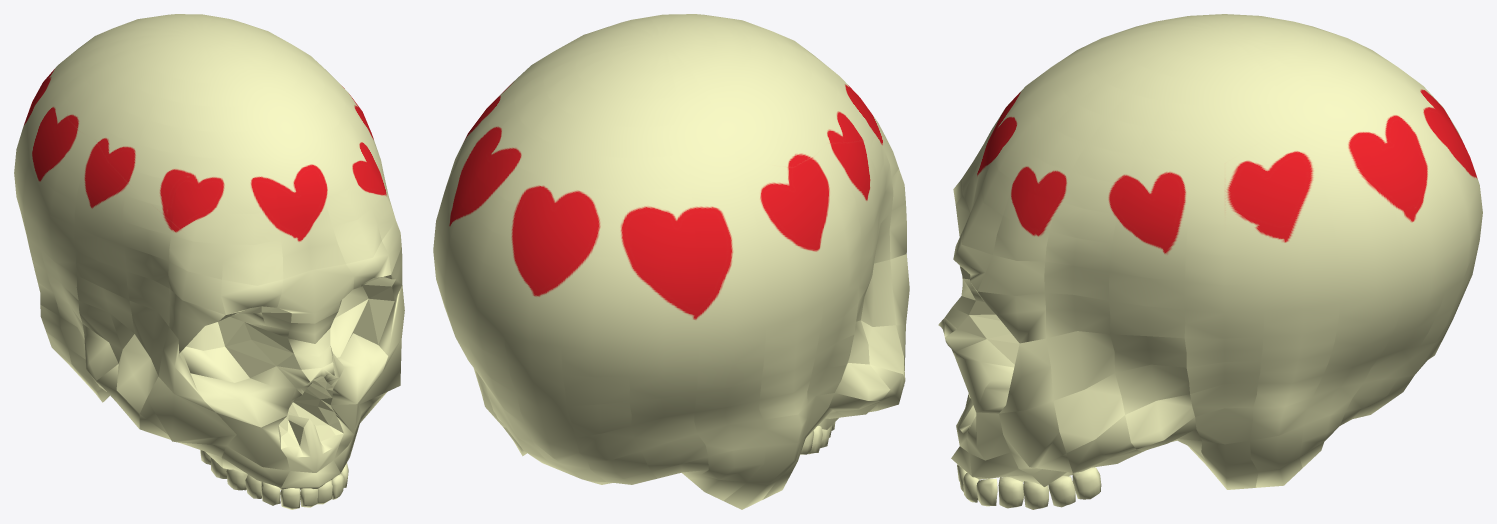
The model's file is skull.glb.
3 renders of one model, left to right at view 1: azimuth 30°, elevation 25°; view 2: azimuth 150°, elevation 25°; view 3: azimuth 270°, elevation 25°, orthographic. The views are drawn at different scales.
Visible parts, largest first — view 1: mesh_id29; view 2: mesh_id29; view 3: mesh_id29.
Part boxes in pixels (x1,y1,x2,y2): mesh_id29: [14, 14, 404, 509]; mesh_id29: [433, 14, 909, 509]; mesh_id29: [938, 14, 1482, 509].
Bounding box in the file's own units: 0.422 × 0.512 × 0.5576.
1 material, 1 textured.
